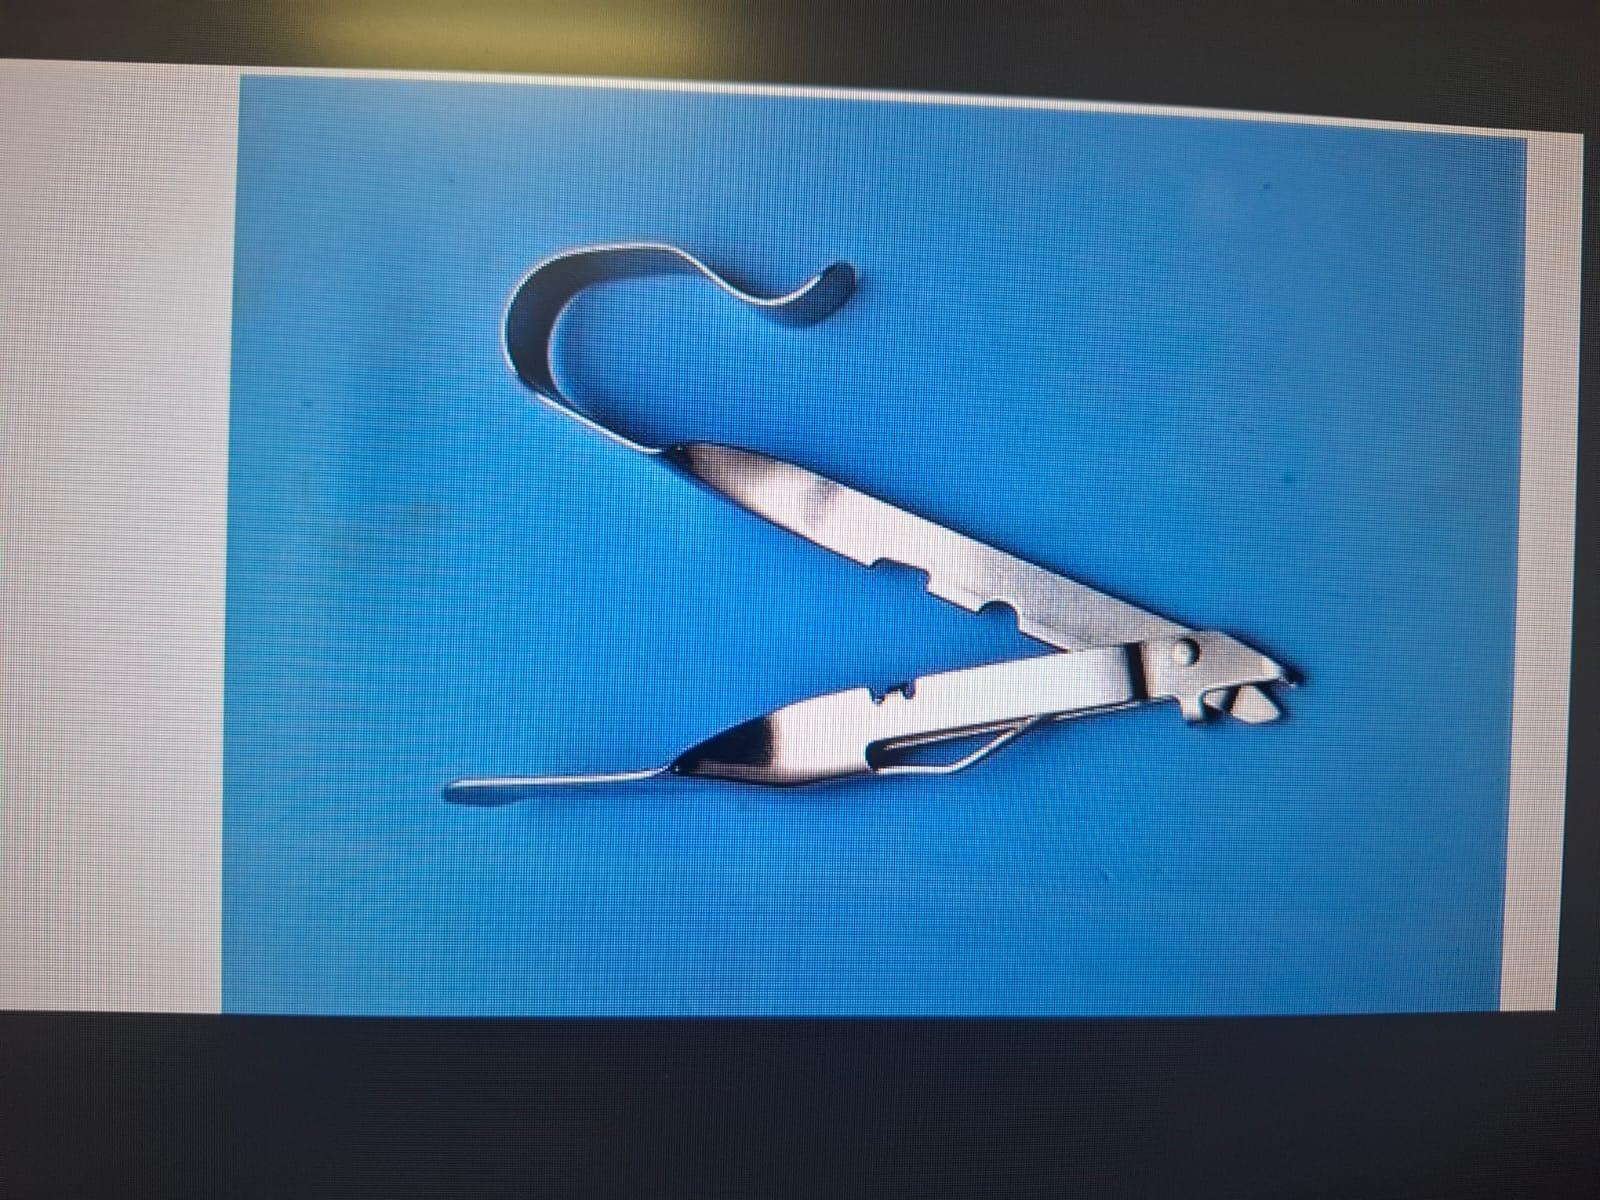Stapler Remover: (416, 224, 1314, 820)
